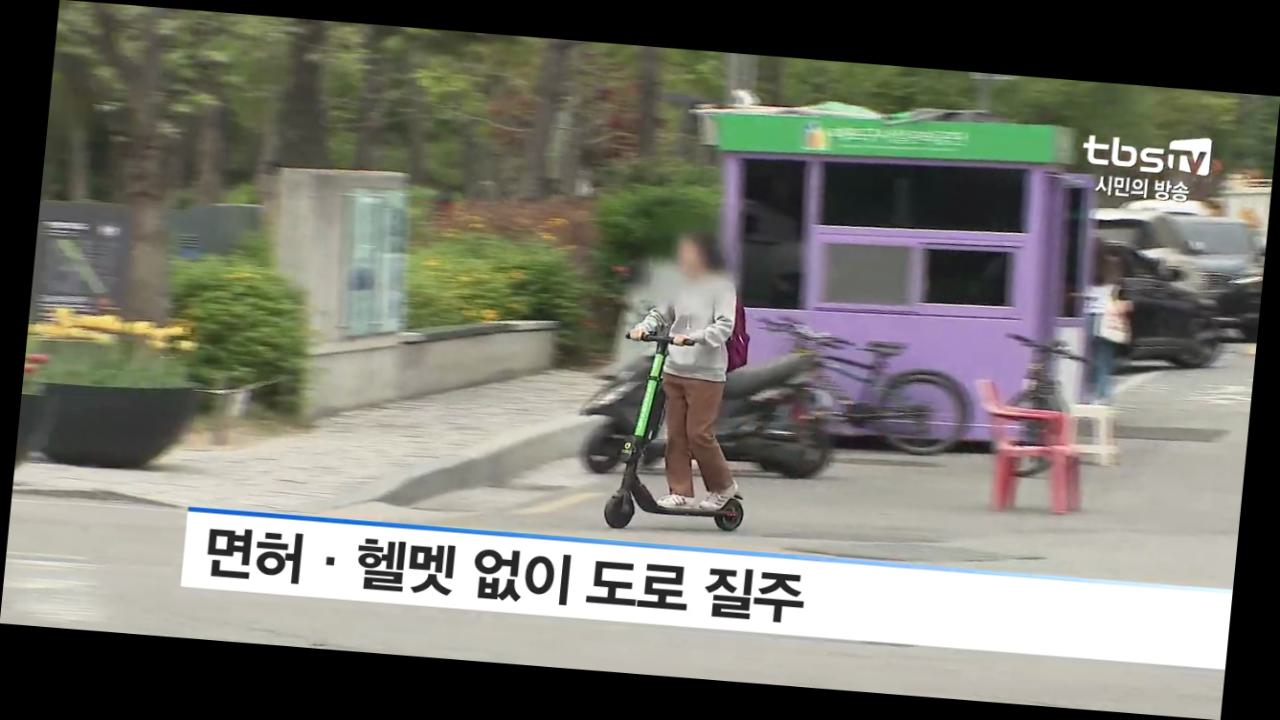nonhelmet: (602, 225, 777, 538)
